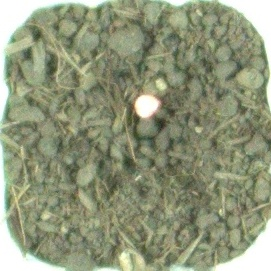chilli seed: (133, 93, 161, 118)
